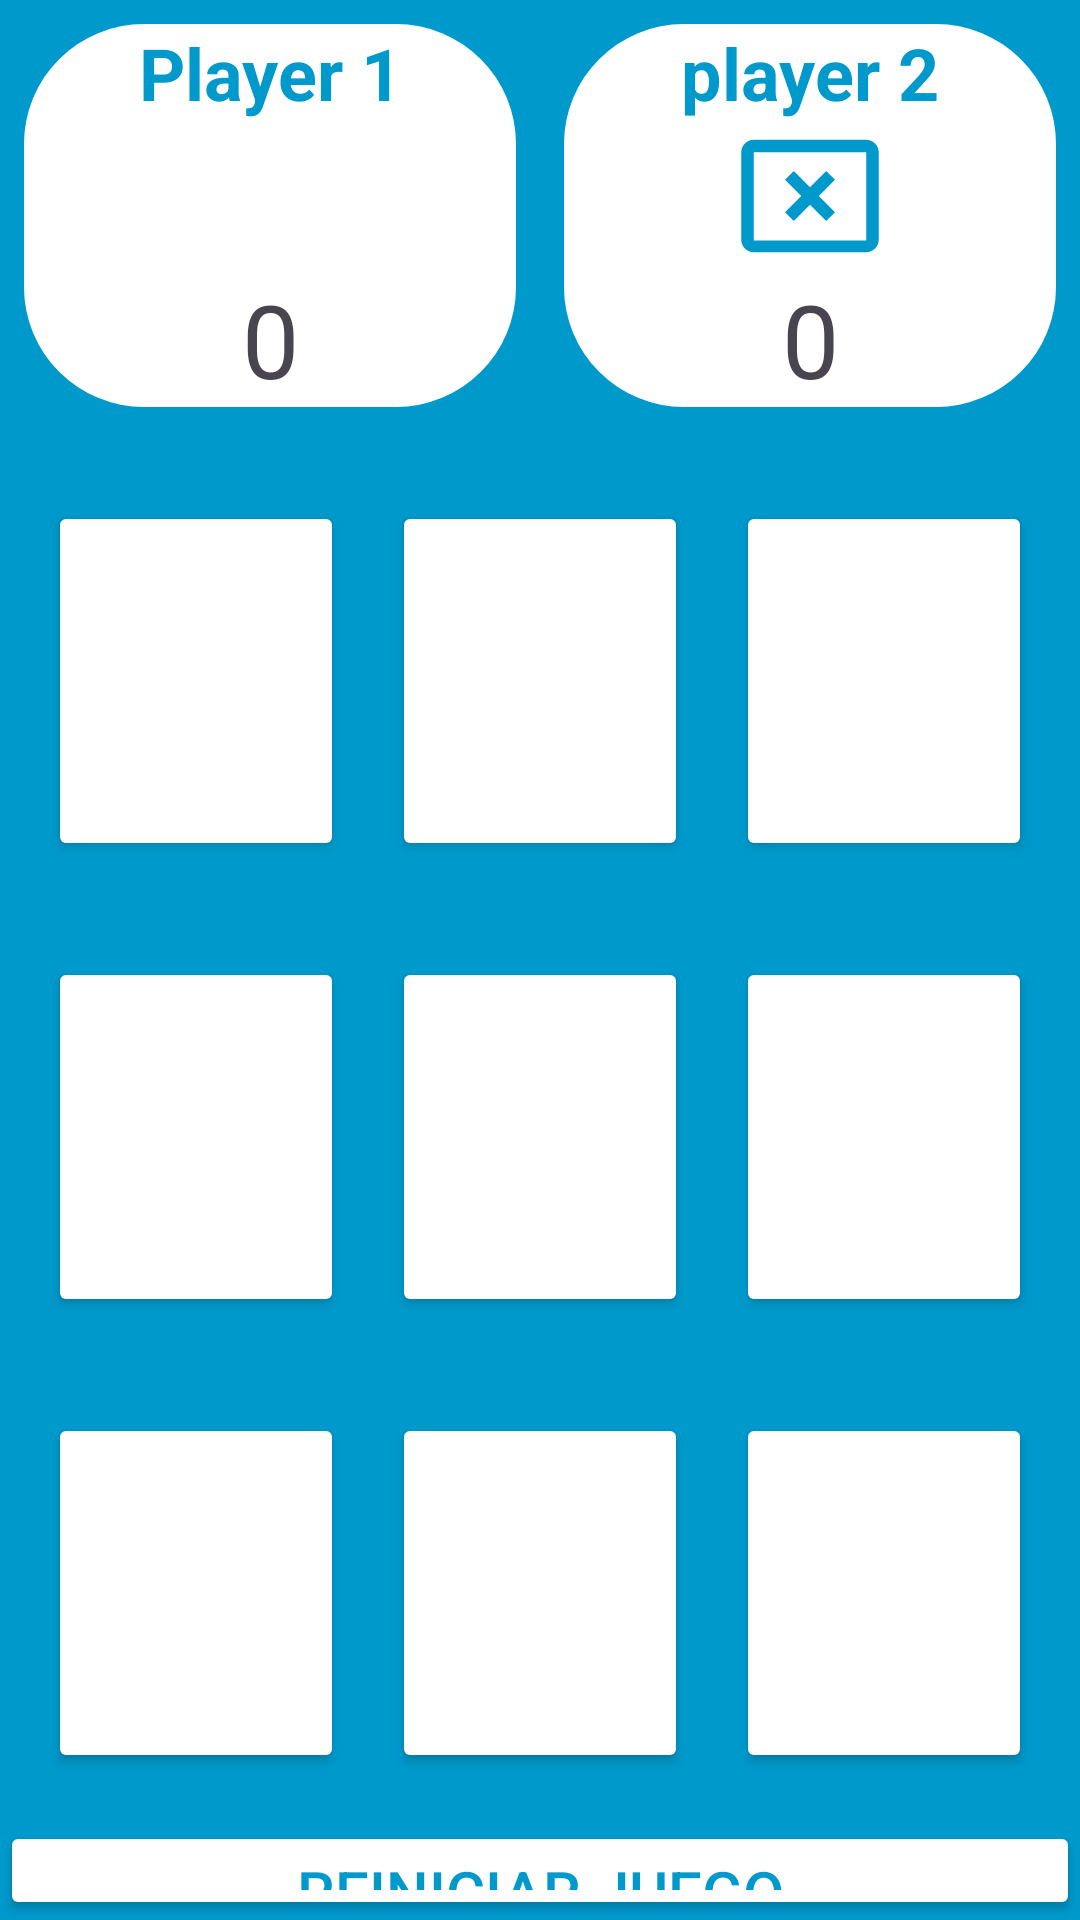

Where icons sit on this 1080px x 1920px app screen, as (x1, y1, x2, y2):
close: (741, 139, 879, 253)
